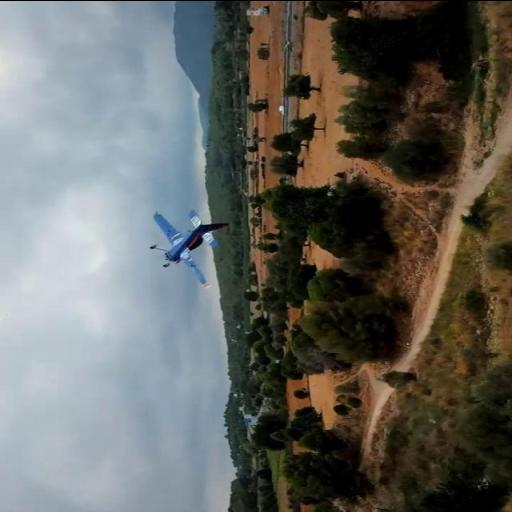uav: (150, 210, 229, 288)
